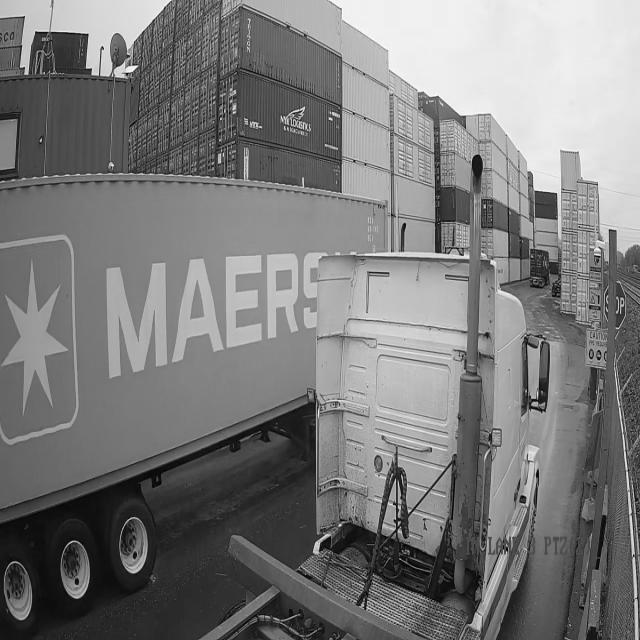truck_cabin: (207, 156, 550, 639)
truck_with_container: (0, 174, 386, 636)
